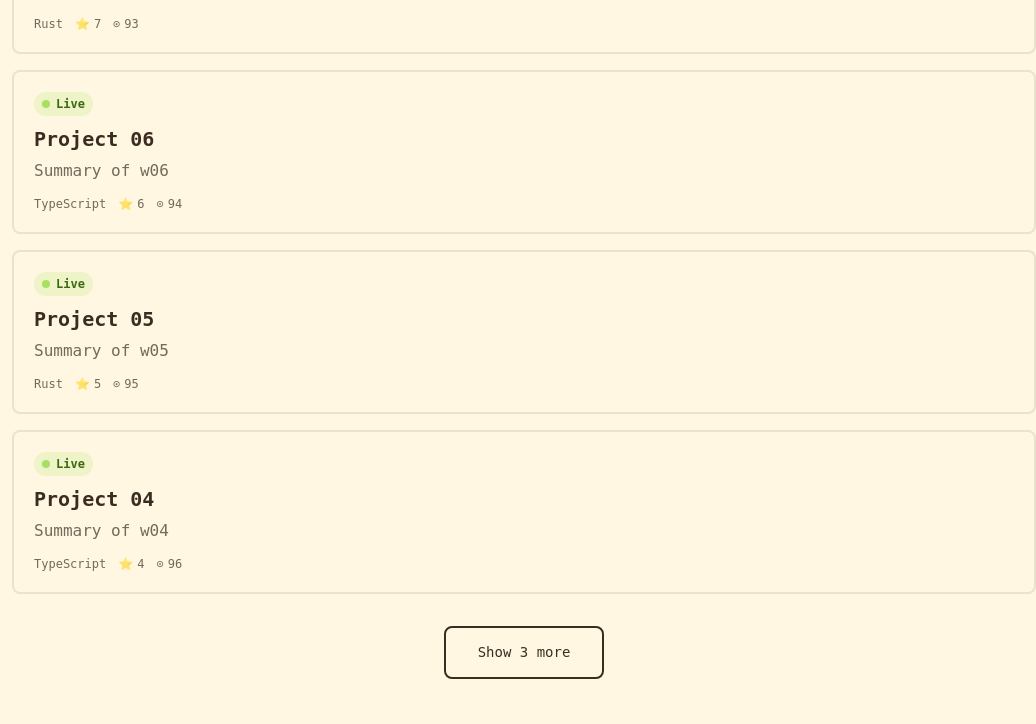
FilterSort island › show-more (LIMIT=12) › resets to collapsed (12) when the filter changes after expanding
(page scrolled)
Click the button with class "show-more-btn".
click(524, 653)  # box [444,626,604,679]
(page scrolled)
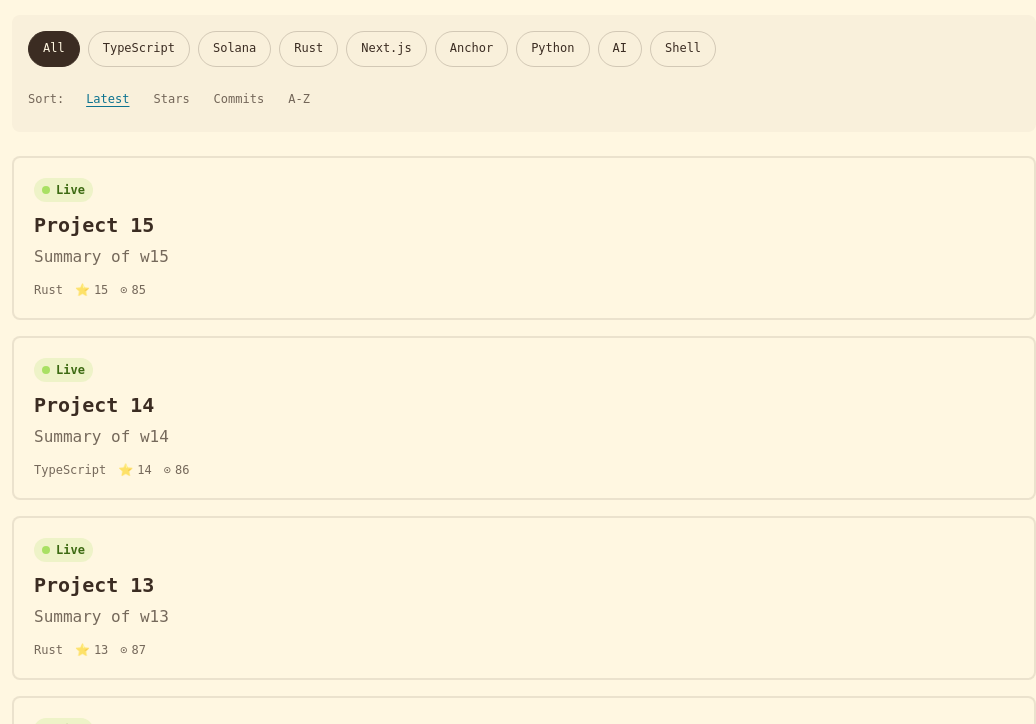
Click the button "All".
click(54, 49)  # box [28,31,80,67]
(page scrolled)
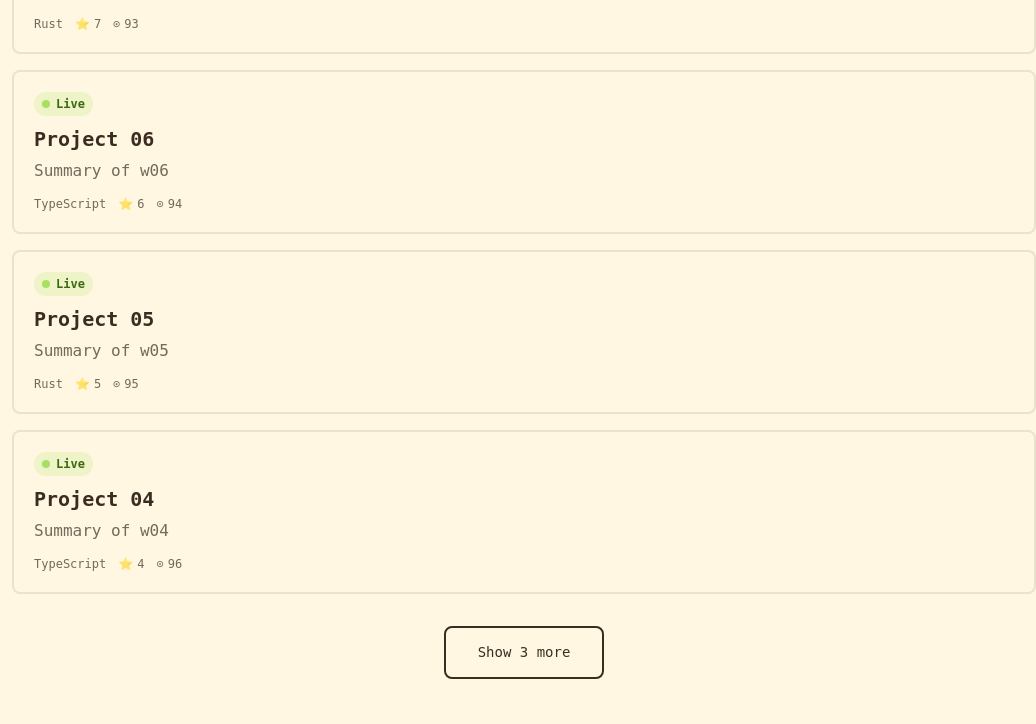
Expected: the button with class "show-more-btn" reads "Show 3 more", [444,626,604,679]
